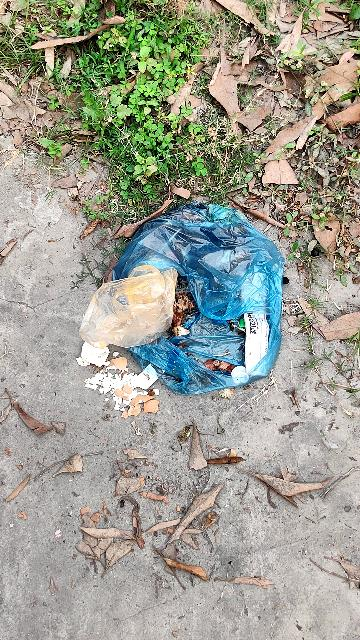polythene: (123, 209, 286, 384)
